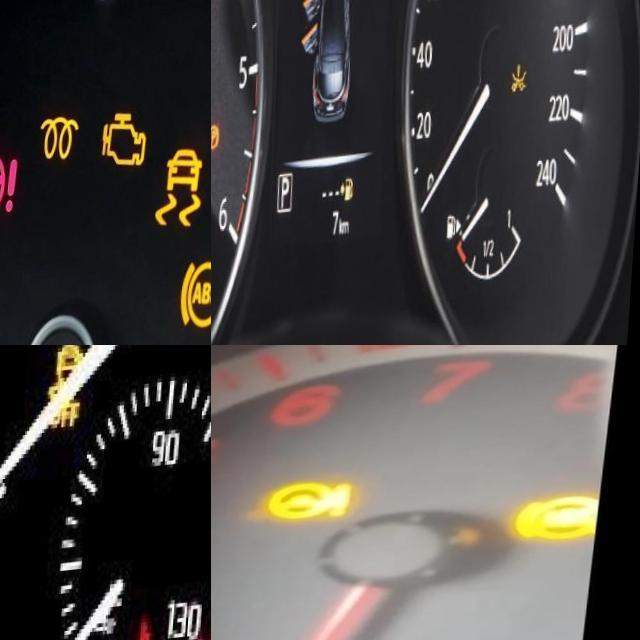Electronic Power Steering: (263, 481, 360, 538), (156, 154, 211, 244), (0, 151, 32, 234)
